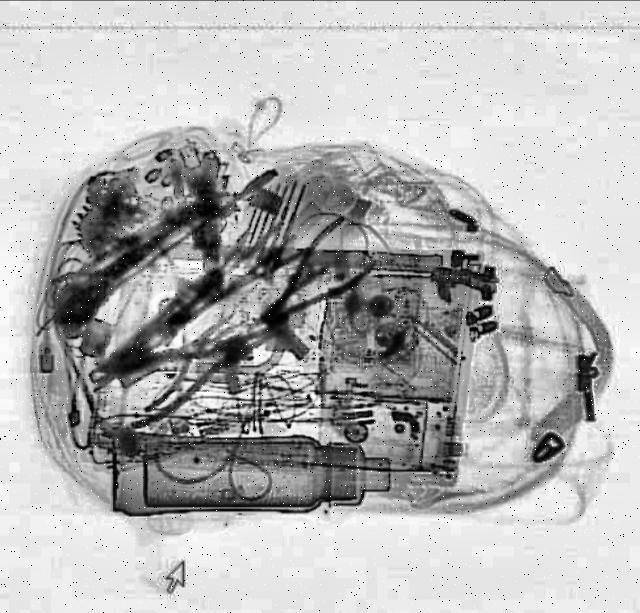Pliers: (93, 300, 293, 434), (243, 211, 391, 341)
